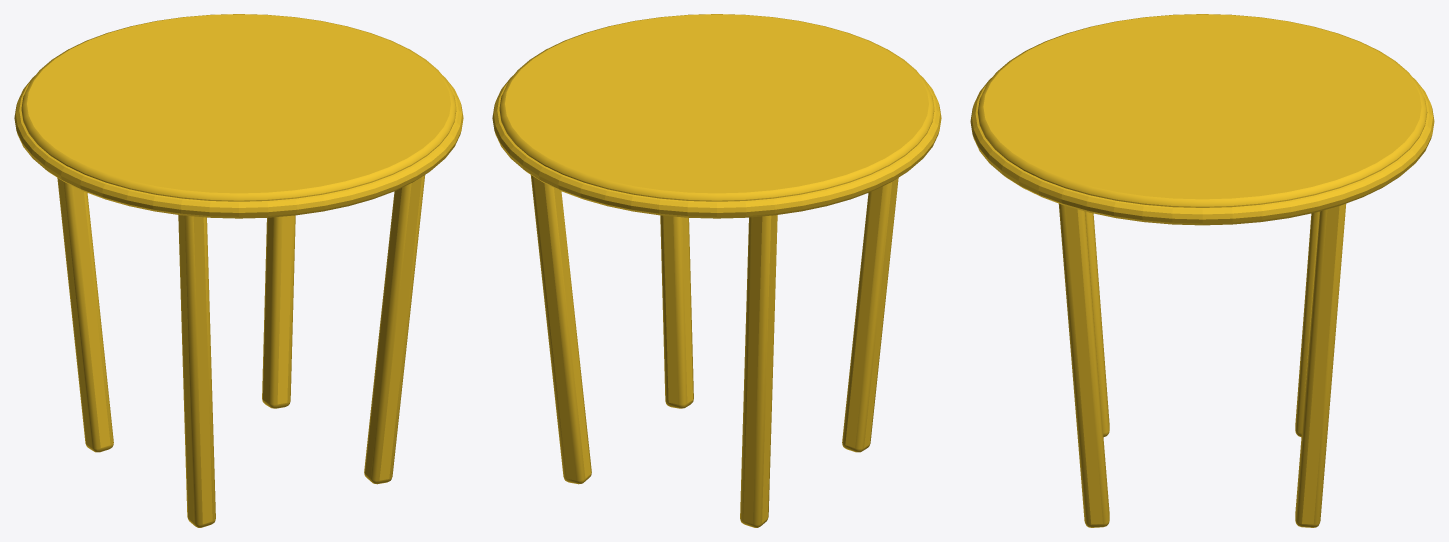
Rendered from plastic_table.glb.
3 views of the same model, side by side, from view 1: azimuth 30°, elevation 25°; view 2: azimuth 150°, elevation 25°; view 3: azimuth 270°, elevation 25° (orthographic). The views are drawn at different scales.
Parts seen in each view (by area): view 1: plastic_yellow; view 2: plastic_yellow; view 3: plastic_yellow.
Boxes of the visible parts, x1,y1,x2,y2 form: plastic_yellow: (14,14,463,527); plastic_yellow: (492,14,941,527); plastic_yellow: (970,14,1434,527).
Size of the model in its own units: 0.826 by 0.7337 by 0.826.
